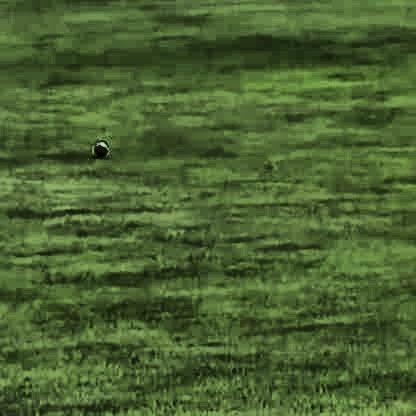golfball: (93, 137, 104, 153)
